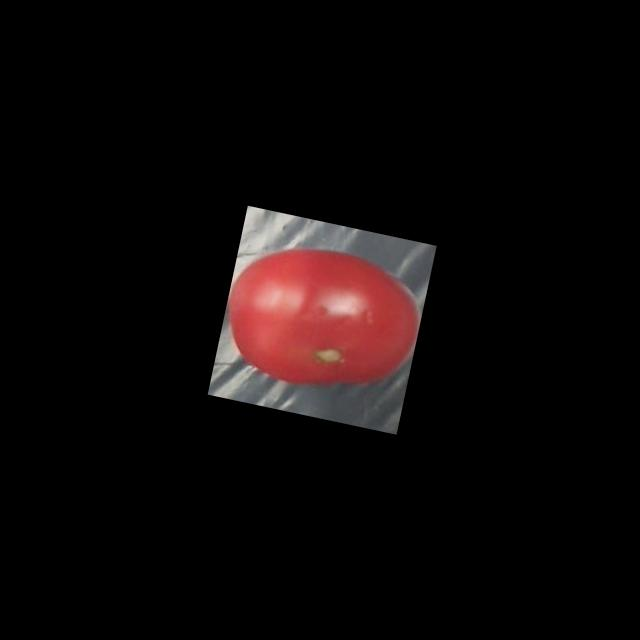tomato: (211, 227, 430, 408)
